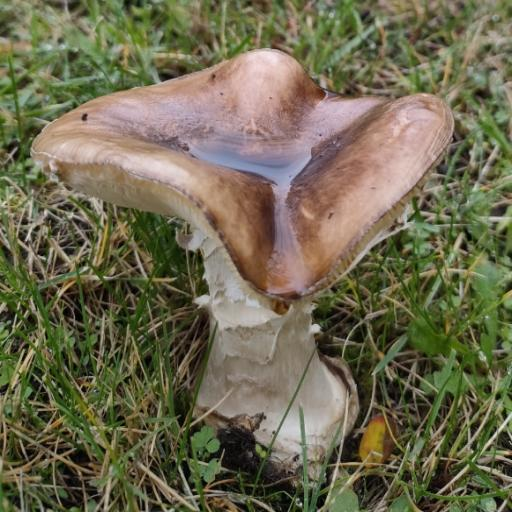mushroom: (0, 0, 455, 472)
